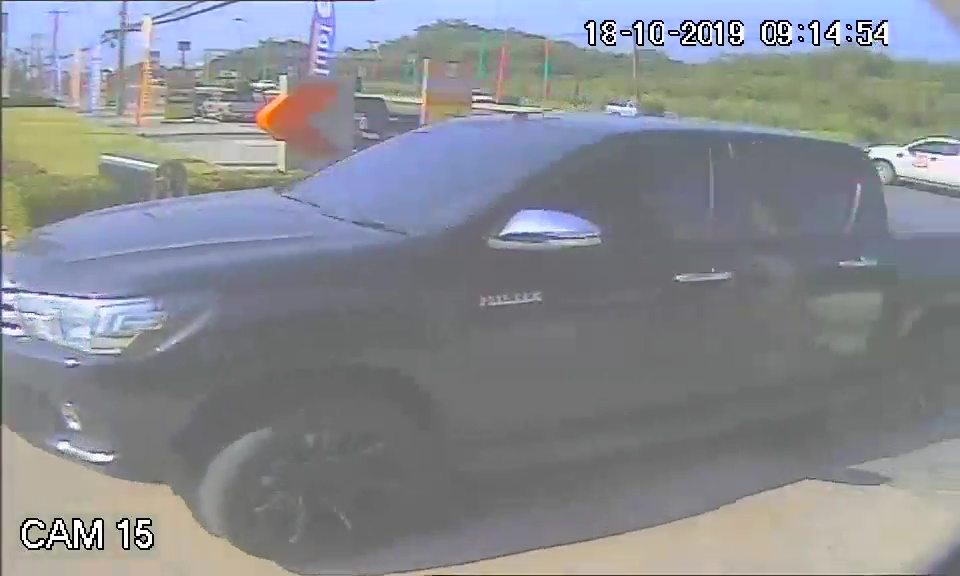pickup: (7, 109, 889, 527)
